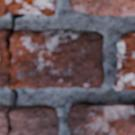brick: (68, 102, 134, 134), (114, 33, 134, 89), (70, 0, 134, 15)
broken_brick: (10, 29, 104, 89), (0, 104, 60, 134), (0, 0, 56, 17), (0, 27, 9, 82)
crack: (0, 2, 24, 132)
